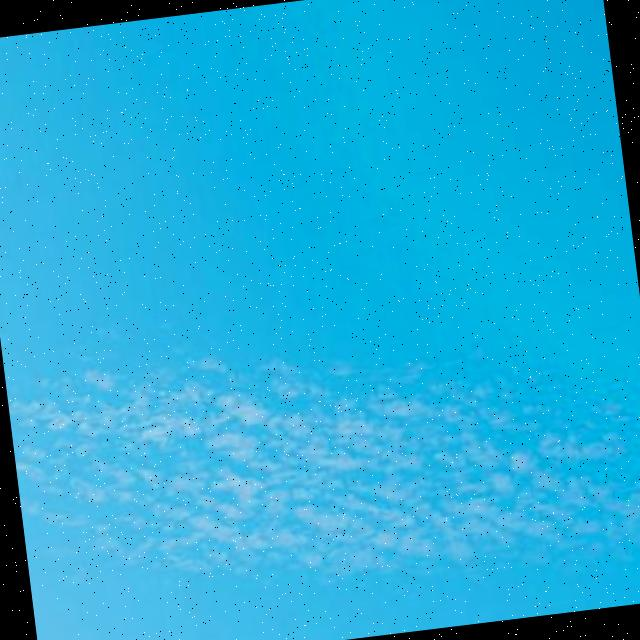Cc: (2, 272, 640, 614)
